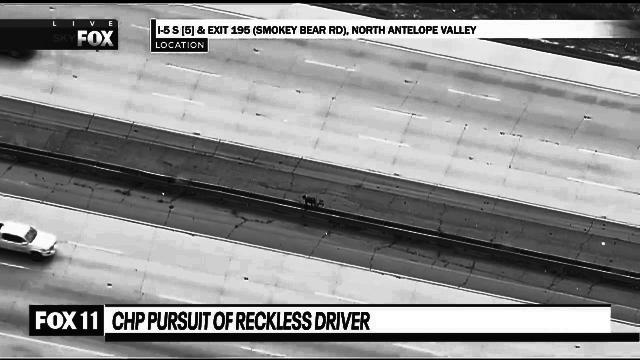jatuh: (299, 193, 329, 211)
